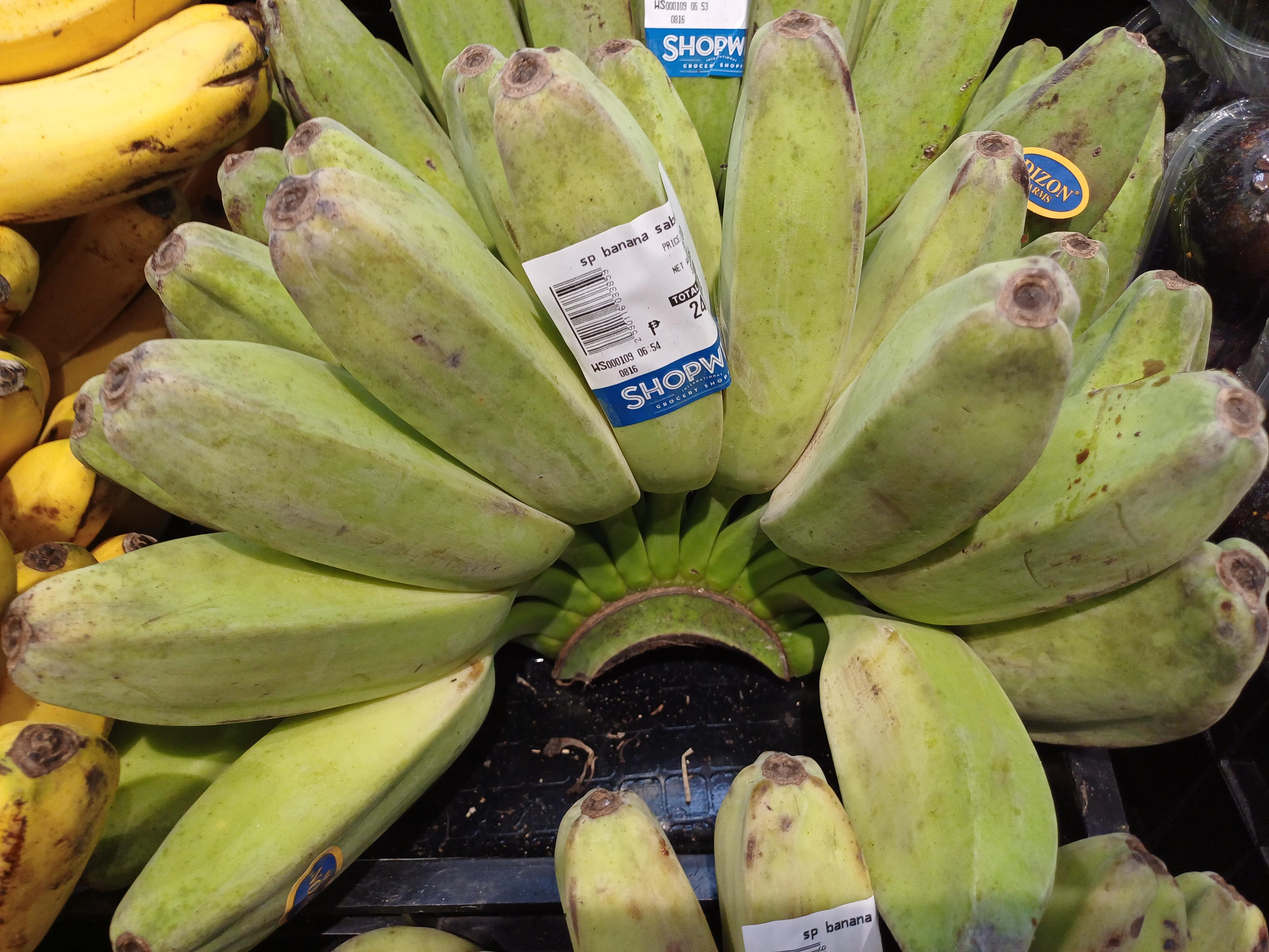underripe: (1, 0, 1269, 952)
